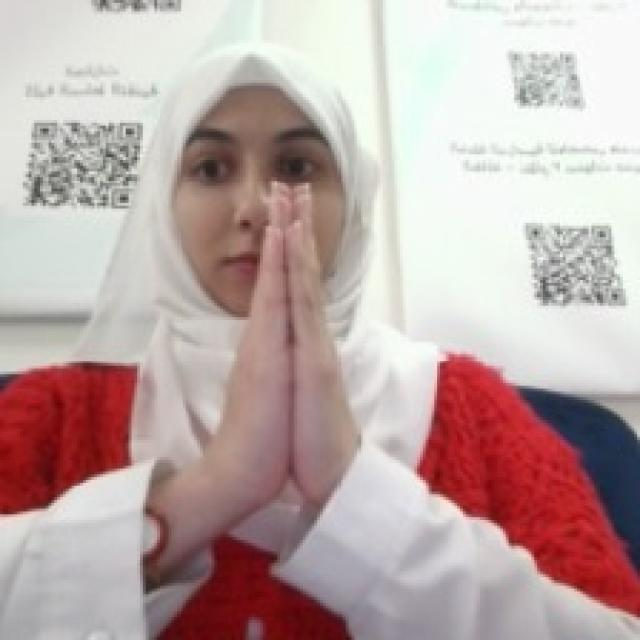sorry: (214, 180, 354, 497)
